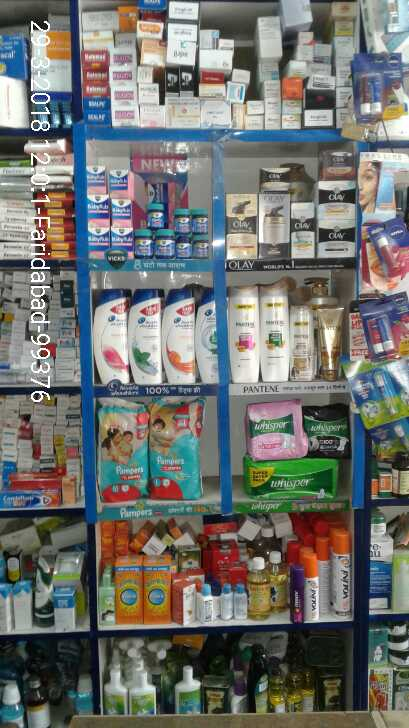vicks: (86, 226, 109, 258), (111, 228, 132, 259), (110, 169, 134, 196), (87, 194, 107, 225), (110, 199, 132, 227), (135, 230, 155, 259), (155, 230, 173, 259), (89, 165, 106, 194), (147, 204, 167, 225), (176, 233, 192, 259), (193, 233, 208, 259), (193, 208, 209, 232), (176, 209, 187, 233)
